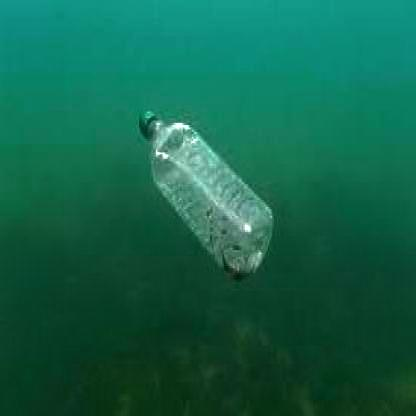pbottle: (133, 93, 277, 284)
